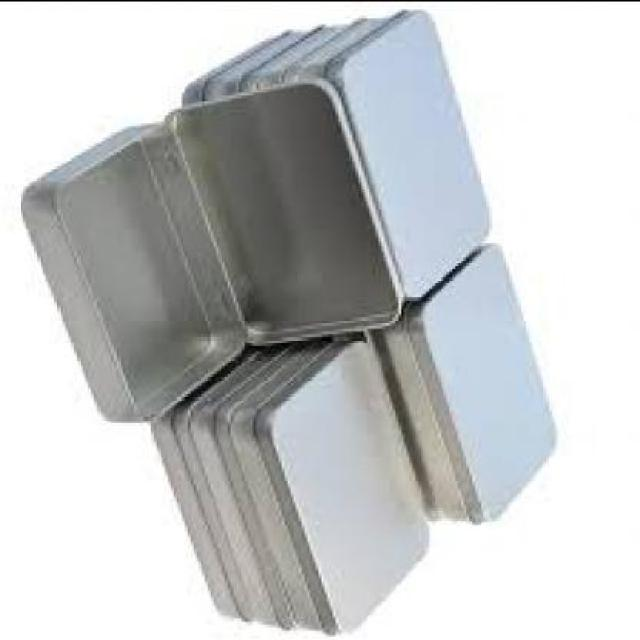metal: (26, 120, 248, 422), (170, 74, 408, 338), (284, 6, 496, 292), (238, 334, 432, 632), (391, 240, 558, 518), (251, 20, 352, 312), (182, 26, 308, 220), (214, 342, 288, 630), (160, 371, 228, 626)
